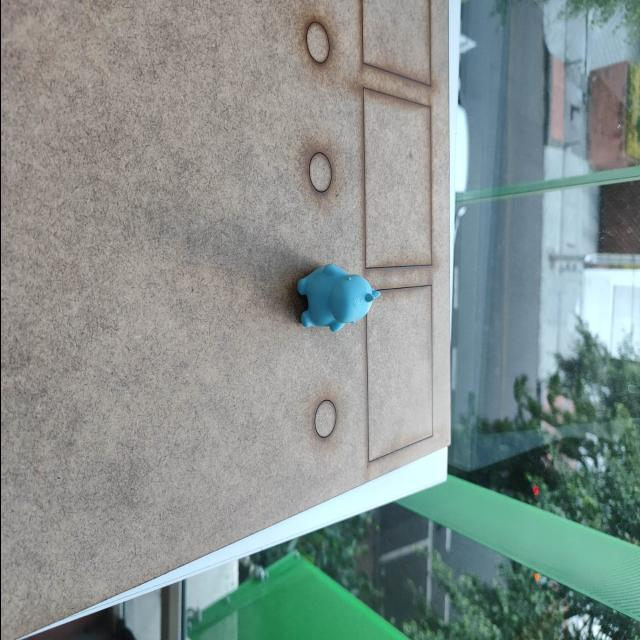DINO: (286, 256, 378, 338)
